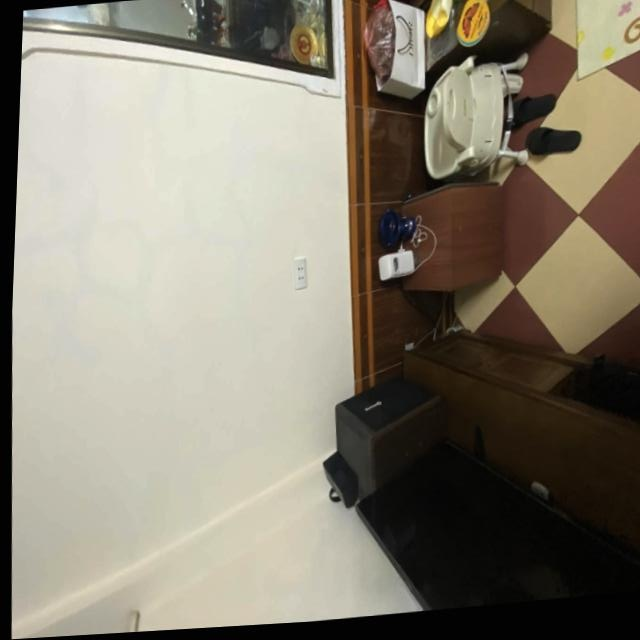outlet: (292, 258, 308, 291)
